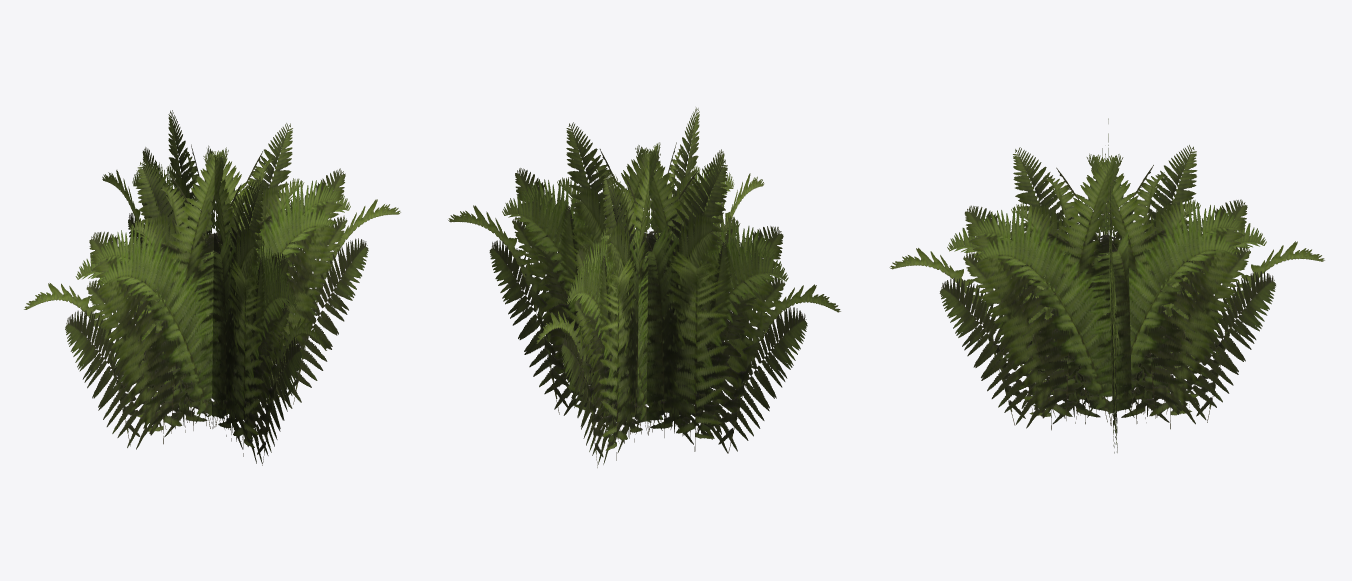
The model's file is low_poly_shrub.obj.
3 views of the same model, side by side, from view 1: azimuth 30°, elevation 25°; view 2: azimuth 150°, elevation 25°; view 3: azimuth 270°, elevation 25° (orthographic). The views are drawn at different scales.
Parts seen in each view (by area): view 1: pPlane8, pPlane5, pPlane7, pPlane6; view 2: pPlane5, pPlane8, pPlane6, pPlane7; view 3: pPlane6, pPlane7, pPlane8.
Part boxes in pixels (x1,y1,x2,y2): pPlane8: [65, 123, 400, 449]; pPlane5: [24, 151, 368, 446]; pPlane7: [128, 144, 326, 465]; pPlane6: [102, 110, 301, 463]; pPlane5: [489, 149, 840, 453]; pPlane8: [448, 122, 807, 453]; pPlane6: [536, 142, 736, 467]; pPlane7: [561, 107, 764, 464]; pPlane6: [939, 145, 1324, 429]; pPlane7: [889, 147, 1275, 430]; pPlane8: [1102, 148, 1119, 452].
Bounding box in the file's own units: 0.011 × 0.0102 × 0.0114.
